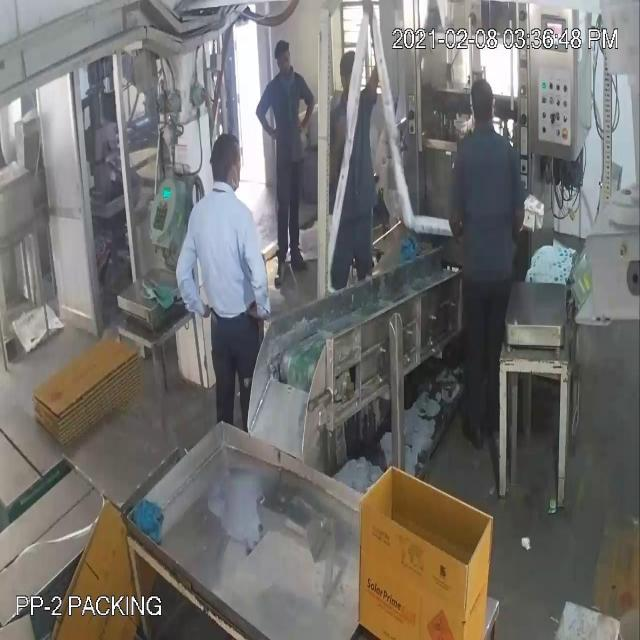No_Gloves: (29, 54, 311, 278)
